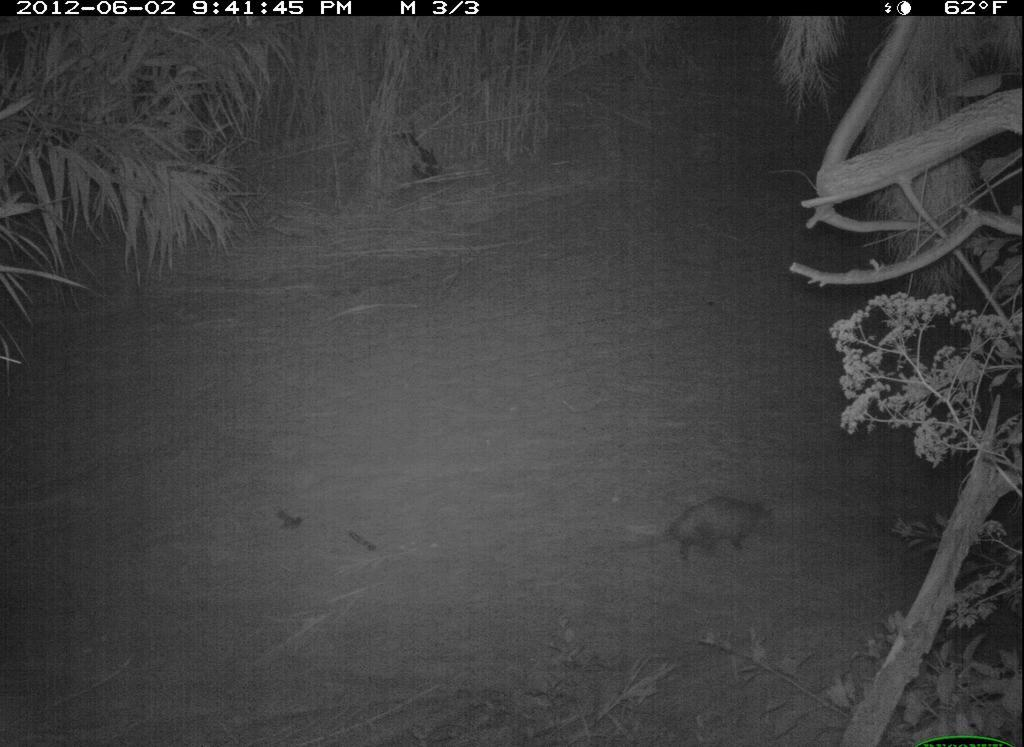opossum: (619, 492, 783, 577)
